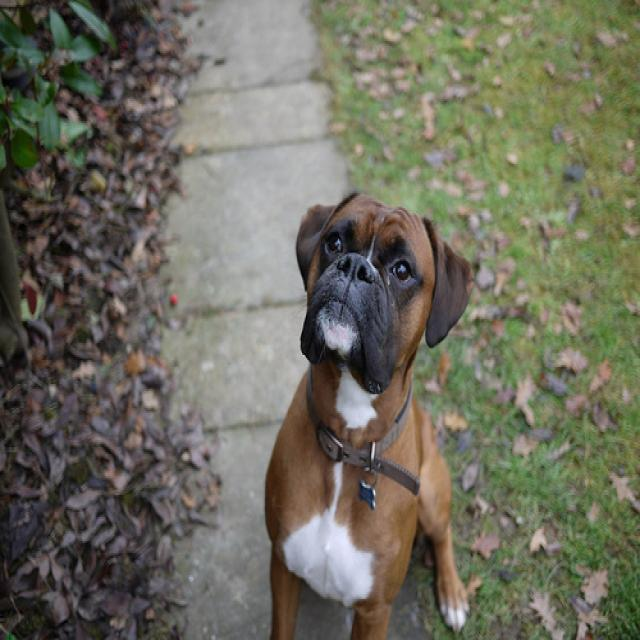dog-boxer: (257, 186, 483, 637)
